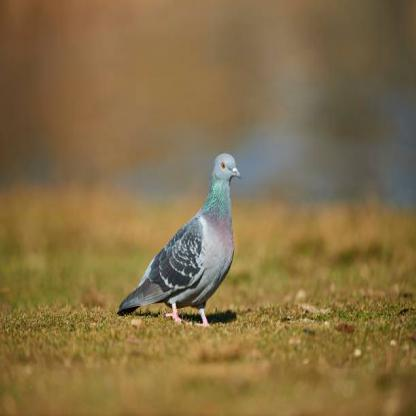Rock Pigeon: (119, 150, 250, 324)
